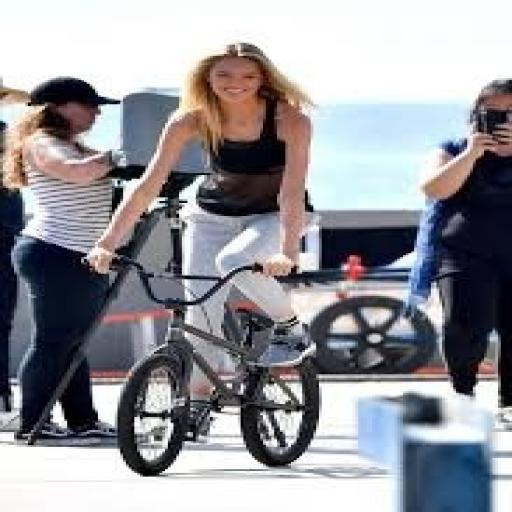cycling: (81, 41, 322, 436), (0, 74, 137, 445), (409, 76, 509, 430)
